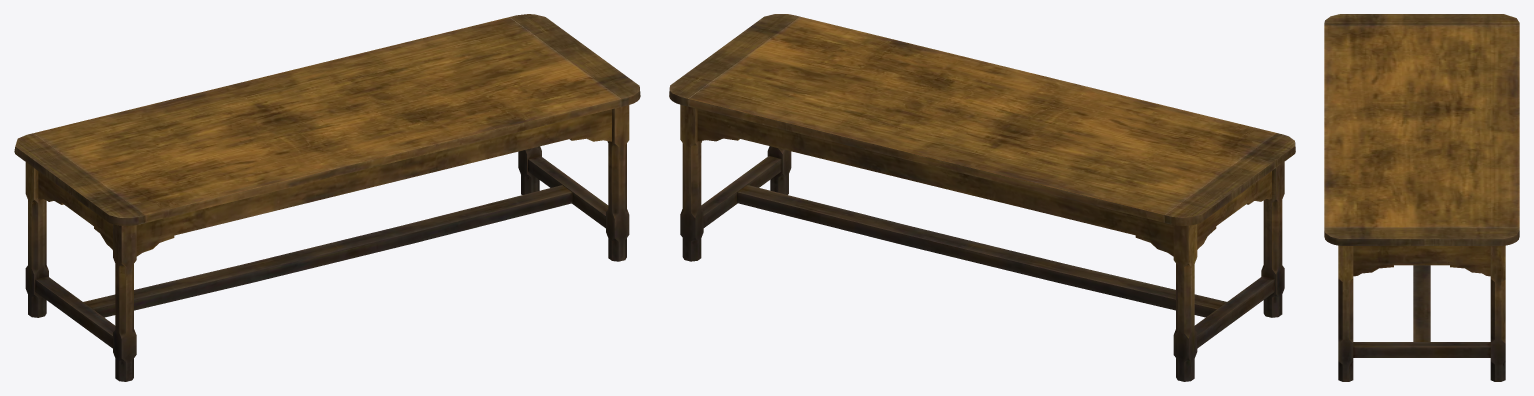
File: WoodenTable_01.glb
3 views of the same model, side by side, from view 1: azimuth 30°, elevation 25°; view 2: azimuth 150°, elevation 25°; view 3: azimuth 270°, elevation 25° (orthographic). The views are drawn at different scales.
Parts seen in each view (by area): view 1: WoodenTable_01; view 2: WoodenTable_01; view 3: WoodenTable_01.
Boxes of the visible parts, box(x1,y1,x2,y2) form: WoodenTable_01: box(14, 14, 640, 381); WoodenTable_01: box(669, 14, 1295, 381); WoodenTable_01: box(1324, 14, 1519, 381).
Bounding box in the file's own units: 1.79 × 0.5488 × 0.6572.
Materials: 1 (1 with a texture image).
